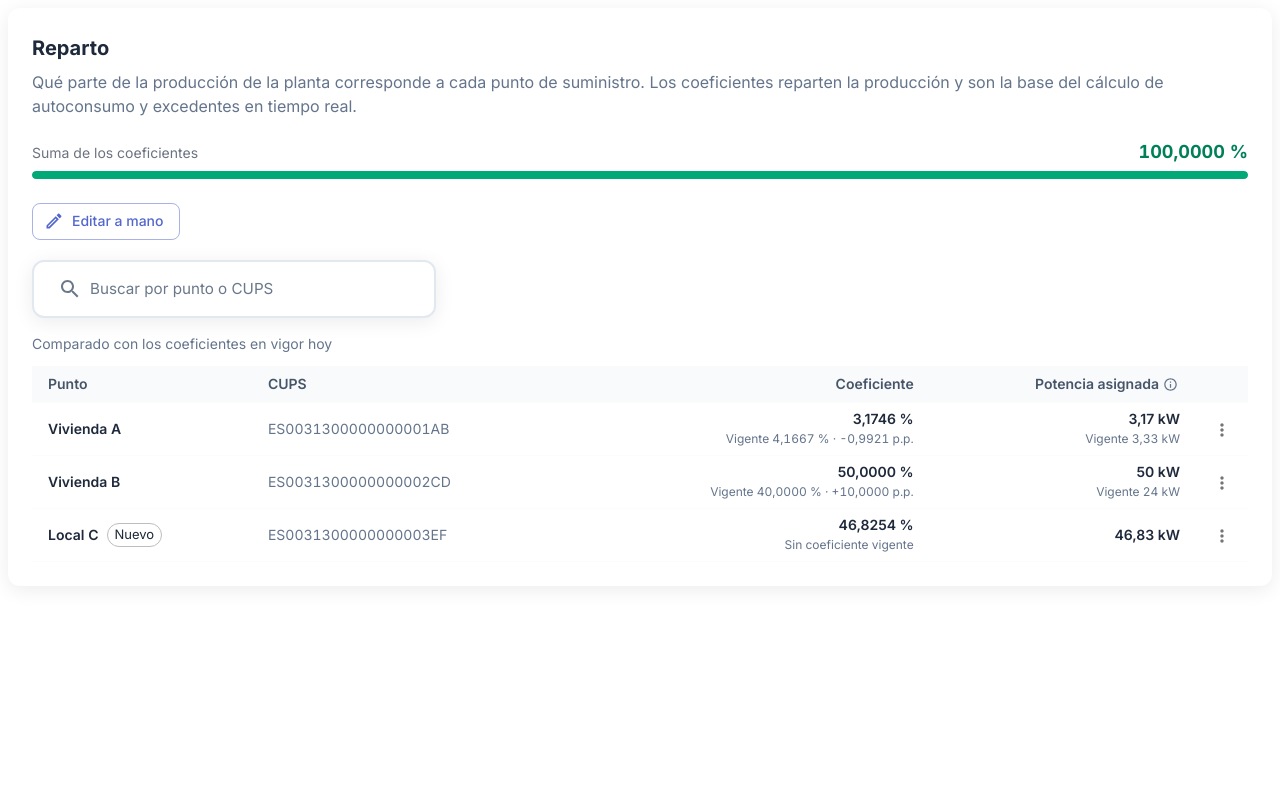
SharingAgreementCoefficientSet (draft vs. in force) › while editing › retracks the difference against the value being typed
The image size is (1280, 800).
Click the button "Editar a mano" at [106, 221], box [32,203,180,240]
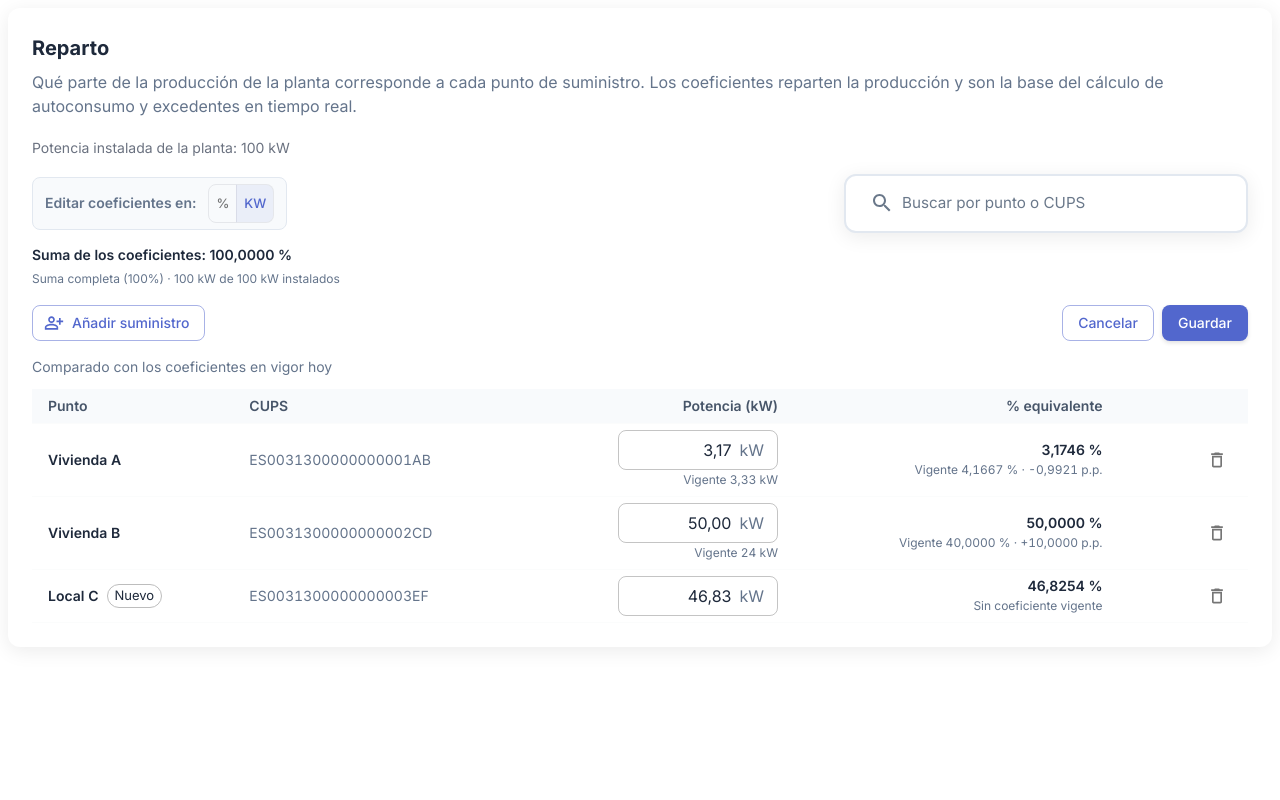
Replace the text in the field in the row of "Vivienda A" with "10" at [675, 450], box [618,430,732,470]
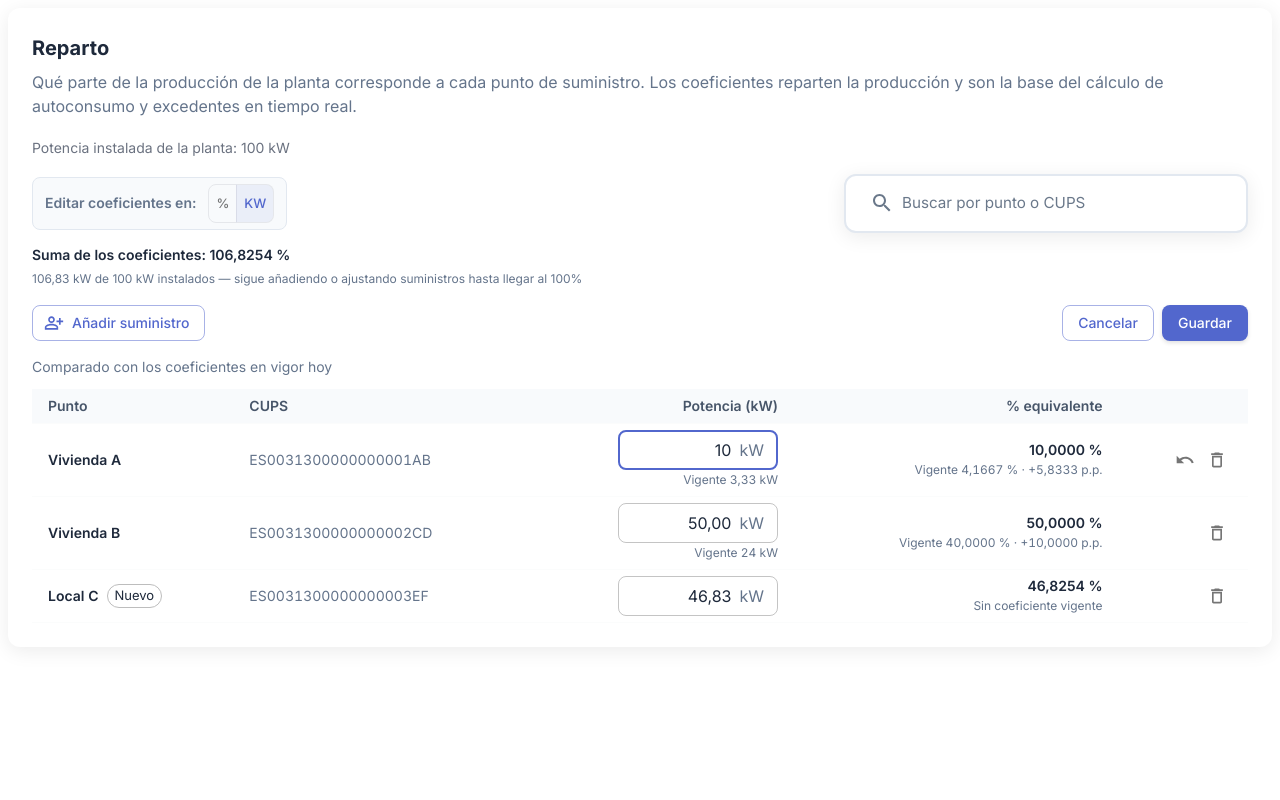
Now the text "Vigente 4,1667 % · +5,8333 p.p." is shown, box [914,462,1102,477]
